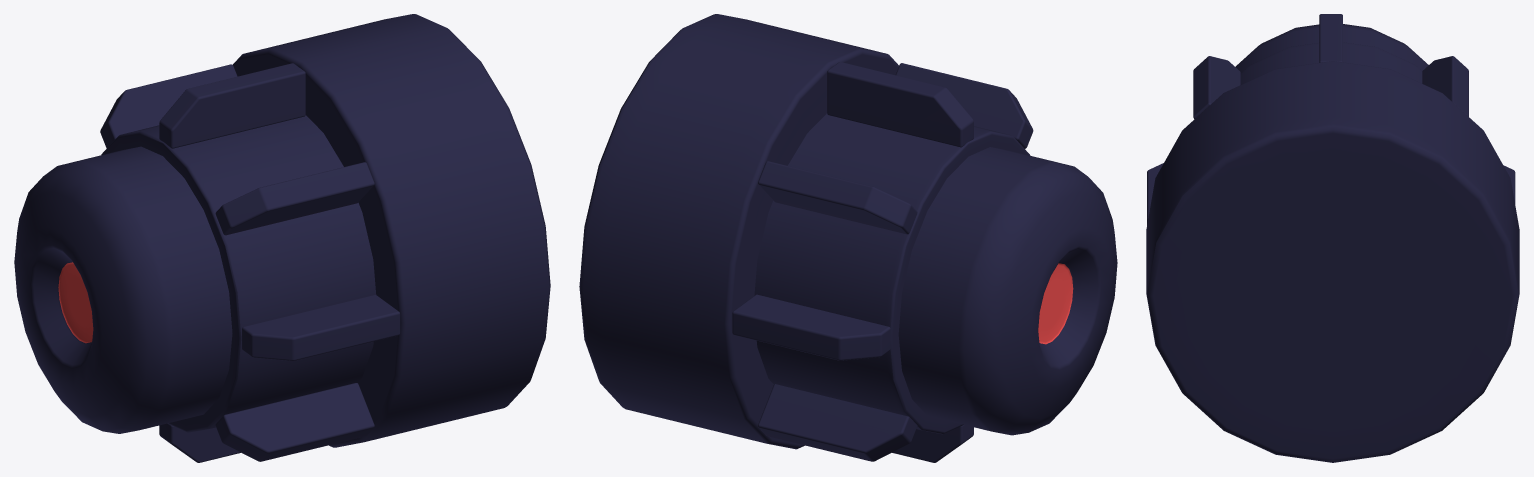
File: Laser_emitter_.fbx
3 renders of one model, left to right at view 1: azimuth 30°, elevation 25°; view 2: azimuth 150°, elevation 25°; view 3: azimuth 270°, elevation 25°, orthographic. The views are drawn at different scales.
Parts seen in each view (by area): view 1: Laser_emitter; view 2: Laser_emitter; view 3: Laser_emitter.
Boxes of the visible parts, <box> form: Laser_emitter: <box>14,14,550,462</box>; Laser_emitter: <box>579,14,1117,462</box>; Laser_emitter: <box>1146,14,1519,462</box>.
Bounding box in the file's own units: 6.59 × 6 × 6.
